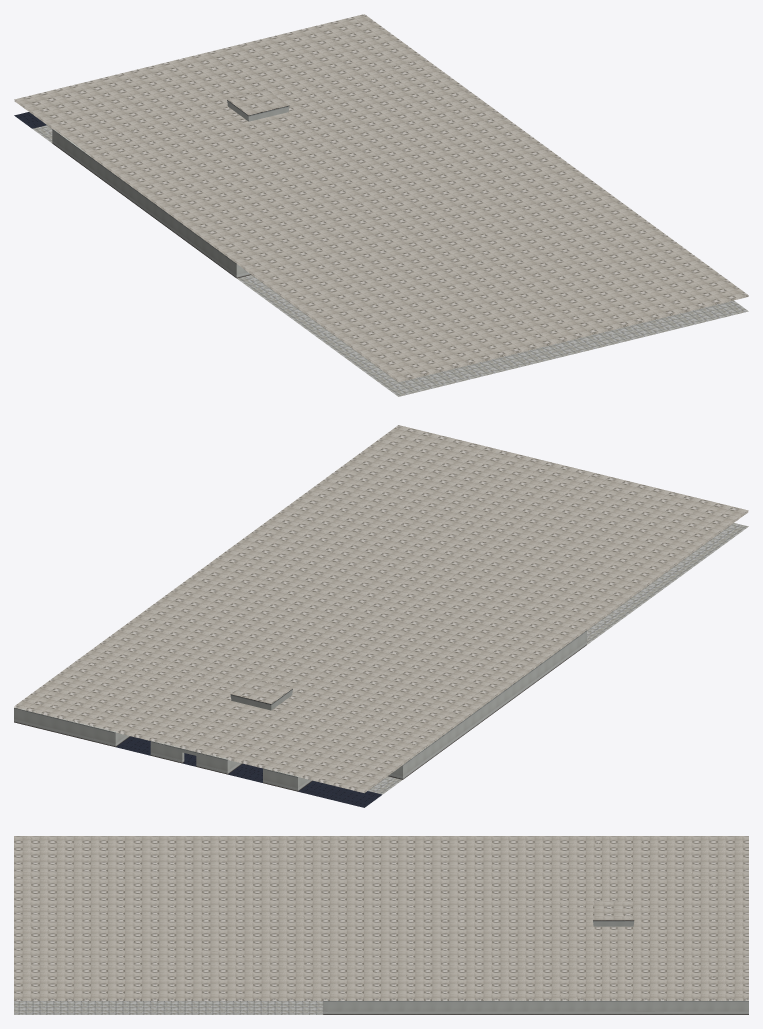
File: secondfloorblockout01.fbx
3 views of the same model, one above another, from view 1: azimuth 30°, elevation 25°; view 2: azimuth 150°, elevation 25°; view 3: azimuth 270°, elevation 25° (orthographic). The views are drawn at different scales.
Parts seen in each view (by area): view 1: ceiling, floor, wall.028; view 2: ceiling, floor, wall.028, wall.022, wall.001; view 3: ceiling, wall.024, floor.
Part boxes in pixels (left/top/right/bottom): ceiling: left=14, top=14, right=748, bottom=382; floor: left=14, top=112, right=748, bottom=396; wall.028: left=54, top=130, right=234, bottom=276; ceiling: left=14, top=425, right=748, bottom=793; floor: left=116, top=523, right=748, bottom=807; wall.028: left=405, top=632, right=584, bottom=777; wall.022: left=14, top=707, right=117, bottom=746; wall.001: left=154, top=741, right=224, bottom=773; ceiling: left=14, top=836, right=748, bottom=1000; wall.024: left=327, top=999, right=744, bottom=1014; floor: left=14, top=1001, right=323, bottom=1014.
Bounding box in the file's own units: 10000 × 641 × 19000.
